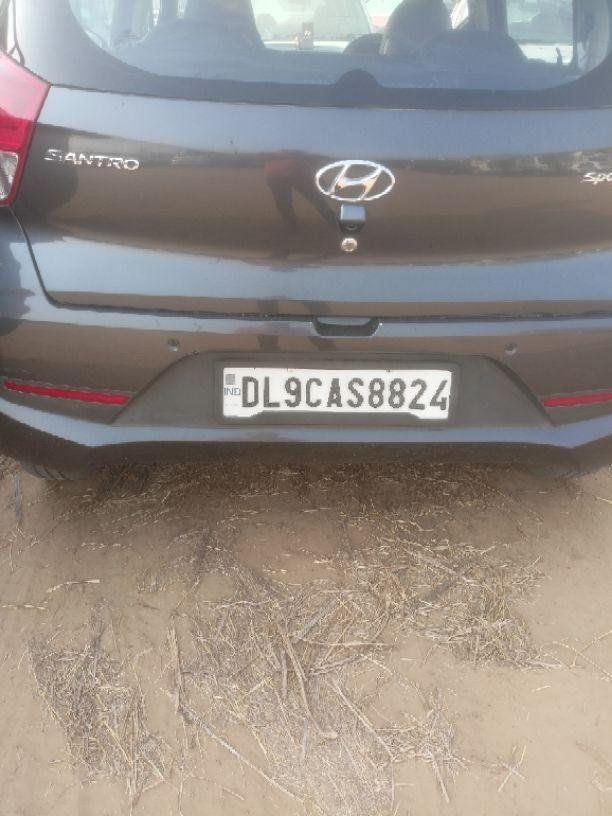license_plate: (214, 359, 457, 424)
